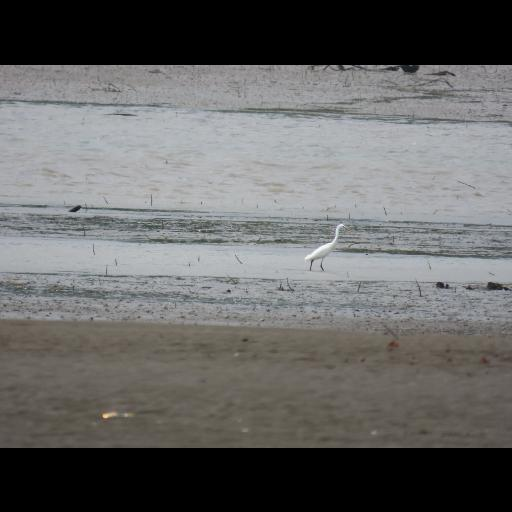chinese_egret: (305, 223, 351, 271)
